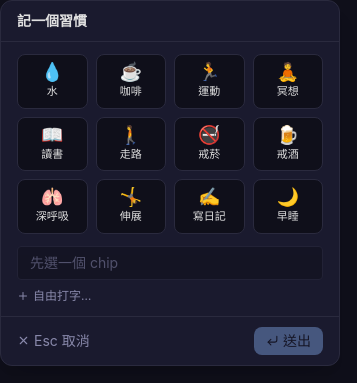
<ChipPopover /> (SPEC-41 §10.3) › submit is disabled until a chip is picked, then enabled
The width and height of the screenshot is (357, 383).
Expected: the button "送出" is disabled, 254,326 -> 323,354
Click the button labelled "💧 水": (52, 81) 17,54 -> 88,108
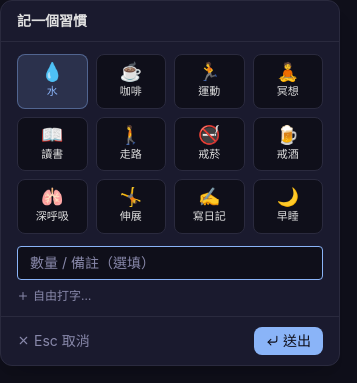
Now the button "送出" is enabled, box 254,326 -> 323,354
